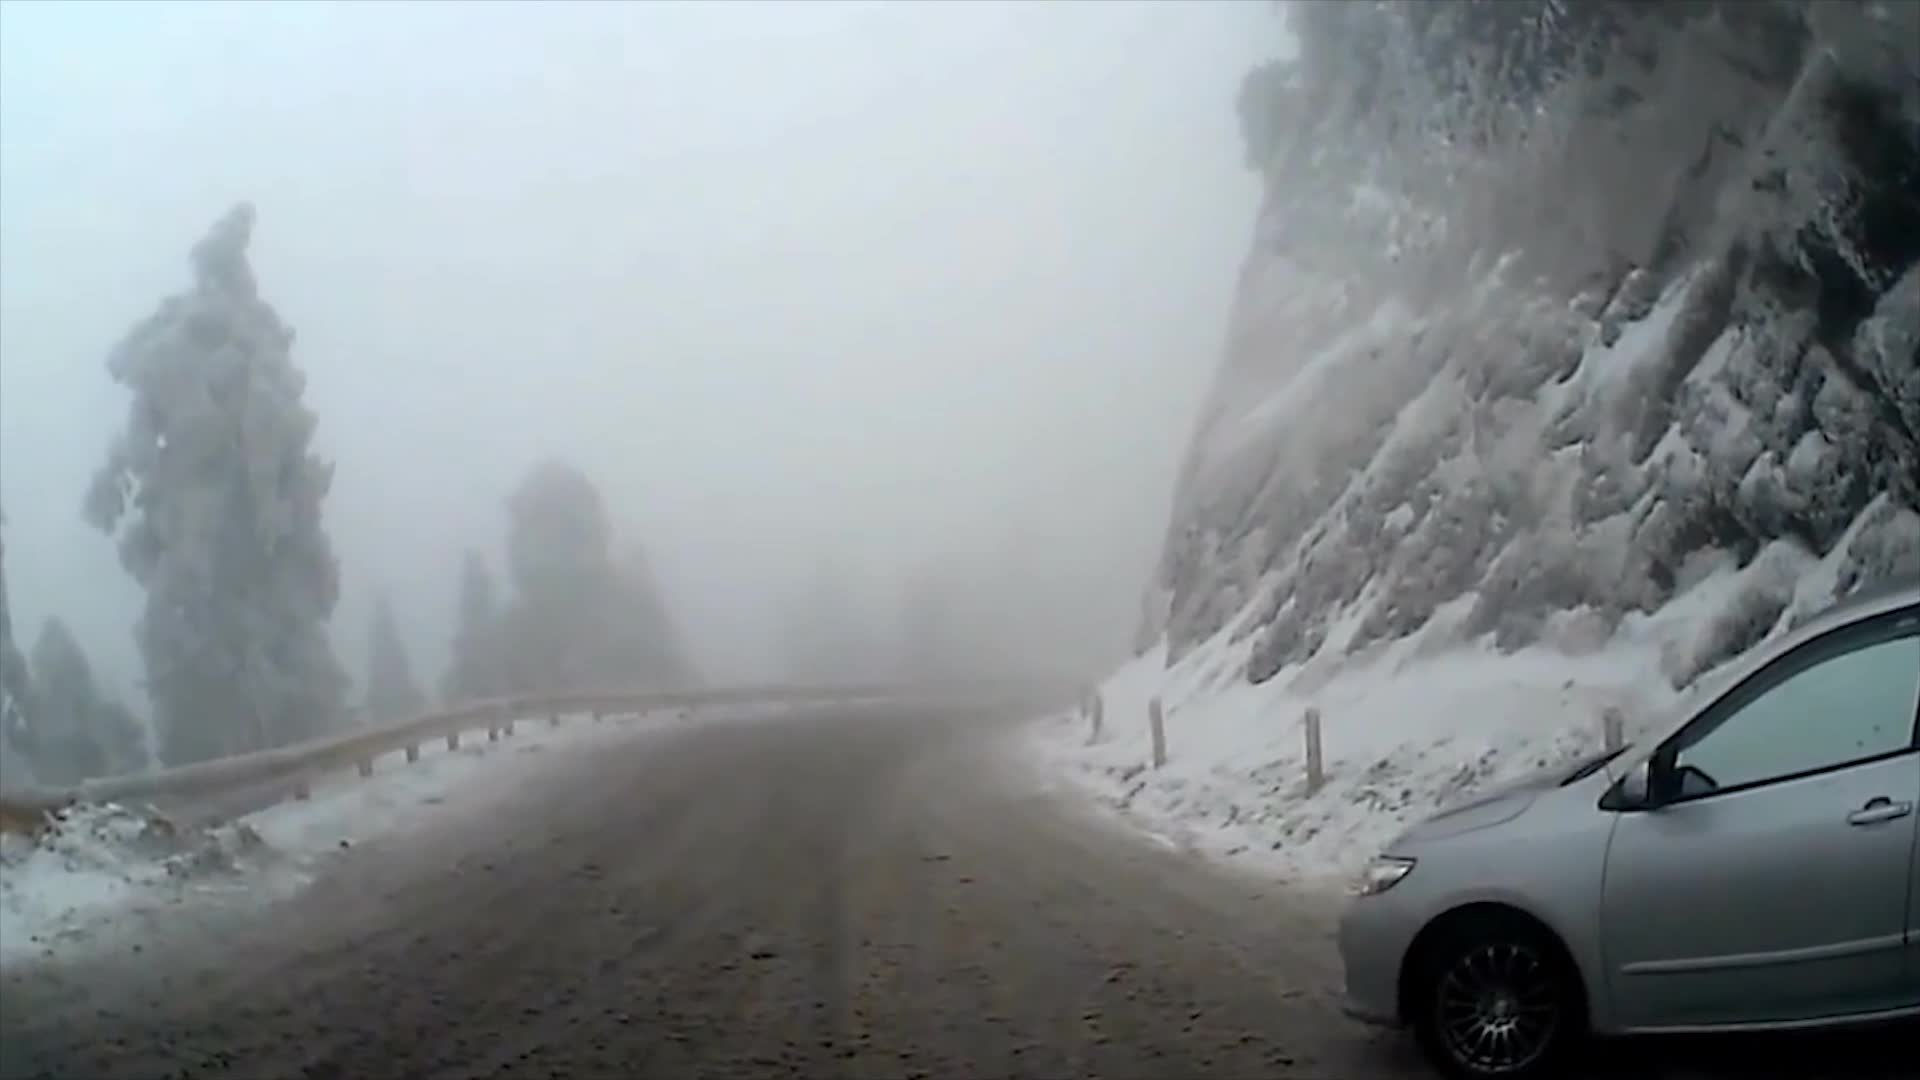vehicle: (1333, 566, 1920, 1077)
